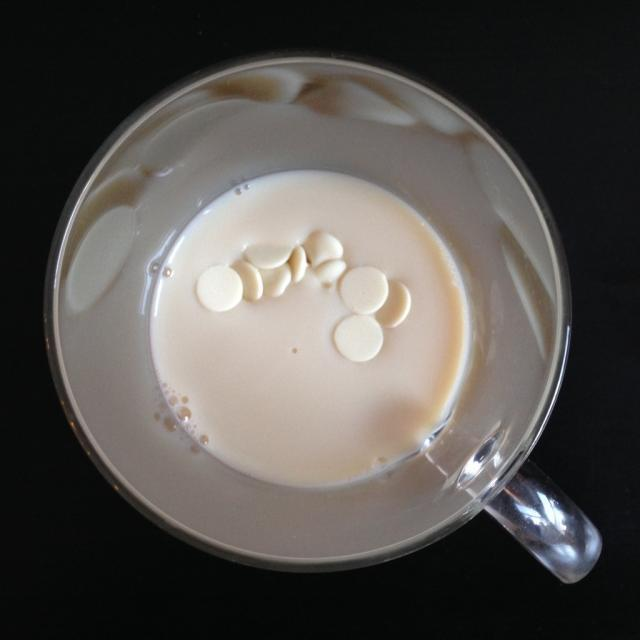Milk: (84, 134, 523, 525)
